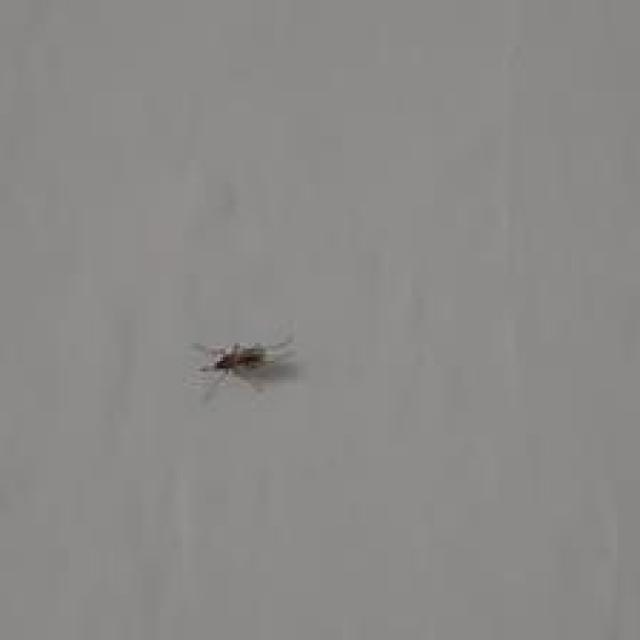Culex: (192, 333, 297, 398)
